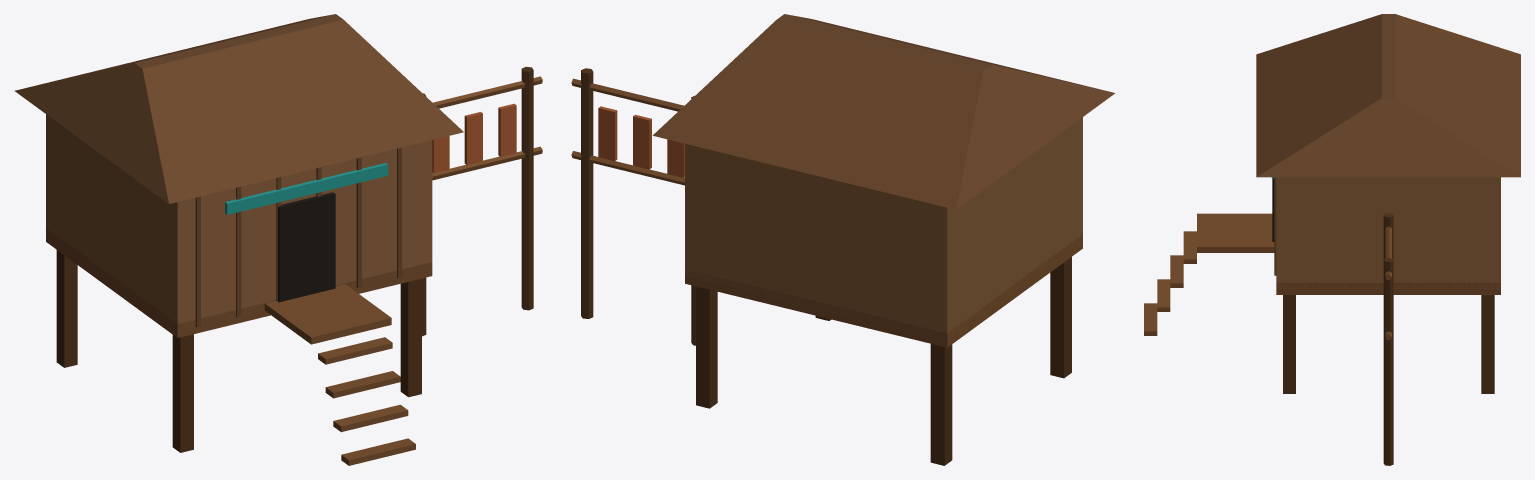
The model's file is bird_house_c.glb.
The picture shows the model from 3 angles, left to right: view 1: azimuth 30°, elevation 25°; view 2: azimuth 150°, elevation 25°; view 3: azimuth 270°, elevation 25°; orthographic projection. The views are drawn at different scales.
Parts seen in each view (by area): view 1: bird_house_c; view 2: bird_house_c; view 3: bird_house_c.
Boxes of the visible parts, x1,y1,x2,y2 form: bird_house_c: (14,14,542,465); bird_house_c: (571,14,1115,465); bird_house_c: (1144,14,1520,465).
Size of the model in its own units: 3.35 by 2.4 by 2.85.
